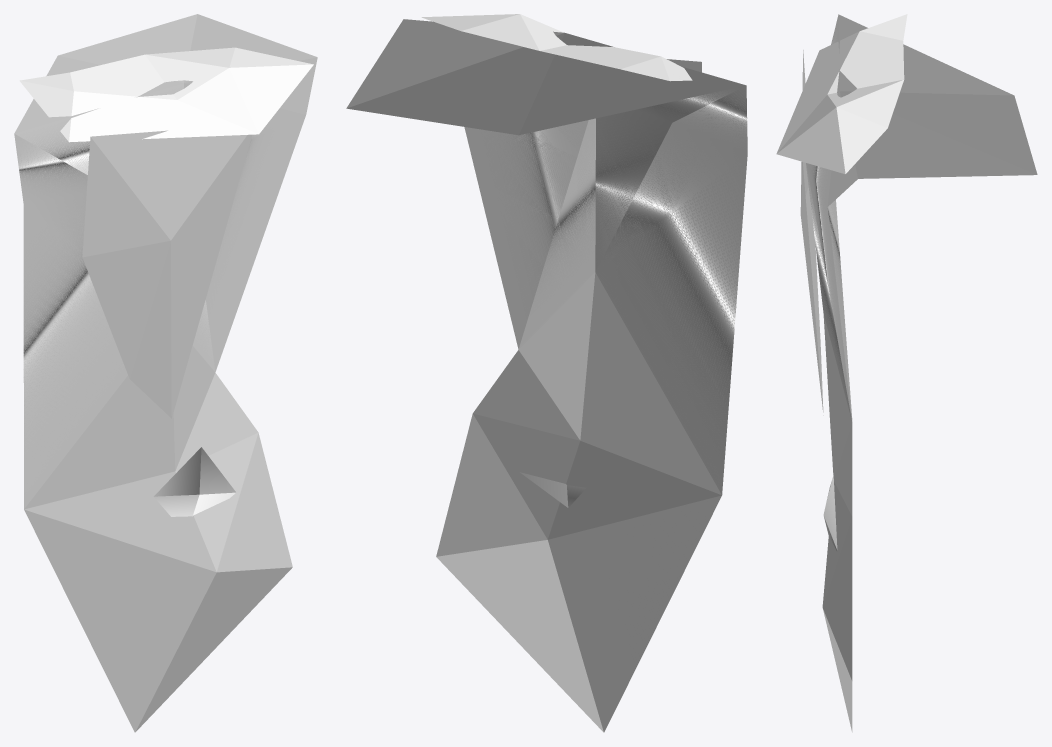
File: SM_Env_Ivy_Draped_Flowers_02.glb
3 views of the same model, side by side, from view 1: azimuth 30°, elevation 25°; view 2: azimuth 150°, elevation 25°; view 3: azimuth 270°, elevation 25° (orthographic). The views are drawn at different scales.
Visible parts, largest first — view 1: SM_Env_Ivy_Draped_Flowers_02; view 2: SM_Env_Ivy_Draped_Flowers_02; view 3: SM_Env_Ivy_Draped_Flowers_02.
Boxes of the visible parts, box(x1,y1,x2,y2) form: SM_Env_Ivy_Draped_Flowers_02: box(14, 14, 317, 732); SM_Env_Ivy_Draped_Flowers_02: box(346, 14, 747, 732); SM_Env_Ivy_Draped_Flowers_02: box(776, 14, 1037, 732).
Size of the model in its own units: 0.889 by 1.78 by 0.6236.
Materials: 1 (1 with a texture image).
